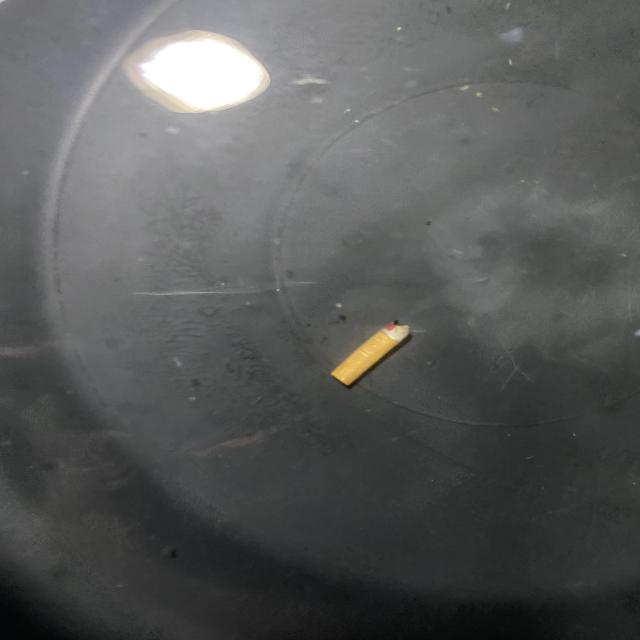Cigarette Filter: (302, 307, 436, 397)
